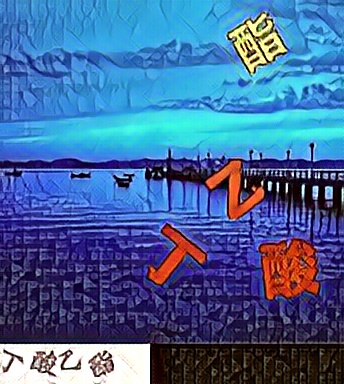B6A1: (143, 221, 208, 285)
CBE1: (256, 236, 321, 300)
D2D2: (204, 156, 269, 220)
F5A5: (222, 10, 287, 74)
